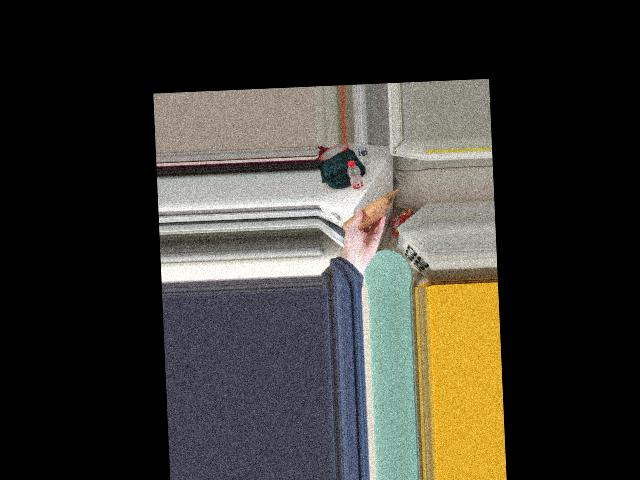sweet_potato: (343, 204, 381, 237)
